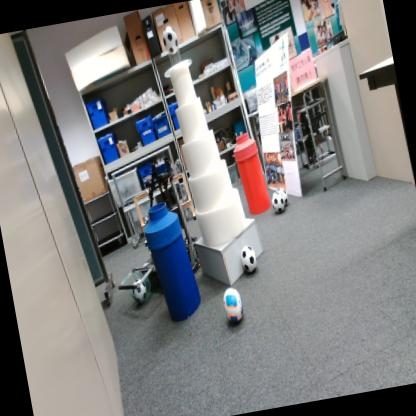ball: (222, 286, 245, 322), (161, 24, 179, 55), (240, 244, 258, 274), (130, 278, 148, 302), (270, 190, 285, 214), (277, 186, 288, 205)
